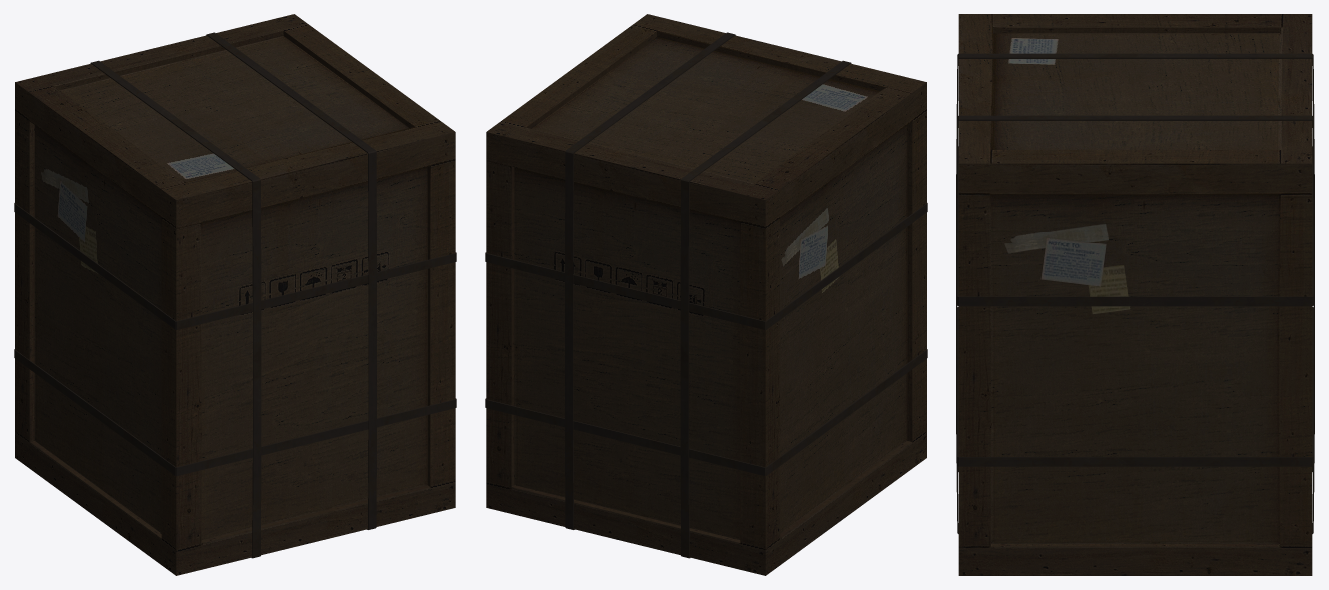
The model's file is wooden_crate_hx_1_1.glb.
The picture shows the model from 3 angles, left to right: view 1: azimuth 30°, elevation 25°; view 2: azimuth 150°, elevation 25°; view 3: azimuth 270°, elevation 25°; orthographic projection. The views are drawn at different scales.
Visible parts, largest first — view 1: wooden_crate_hx_1_1; view 2: wooden_crate_hx_1_1; view 3: wooden_crate_hx_1_1.
Boxes of the visible parts, bbox=[...] form: wooden_crate_hx_1_1: bbox=[14, 14, 456, 575]; wooden_crate_hx_1_1: bbox=[485, 14, 927, 575]; wooden_crate_hx_1_1: bbox=[956, 14, 1314, 575].
Size of the model in its own units: 1.41 by 1.81 by 1.42.
2 materials, 2 textured.
